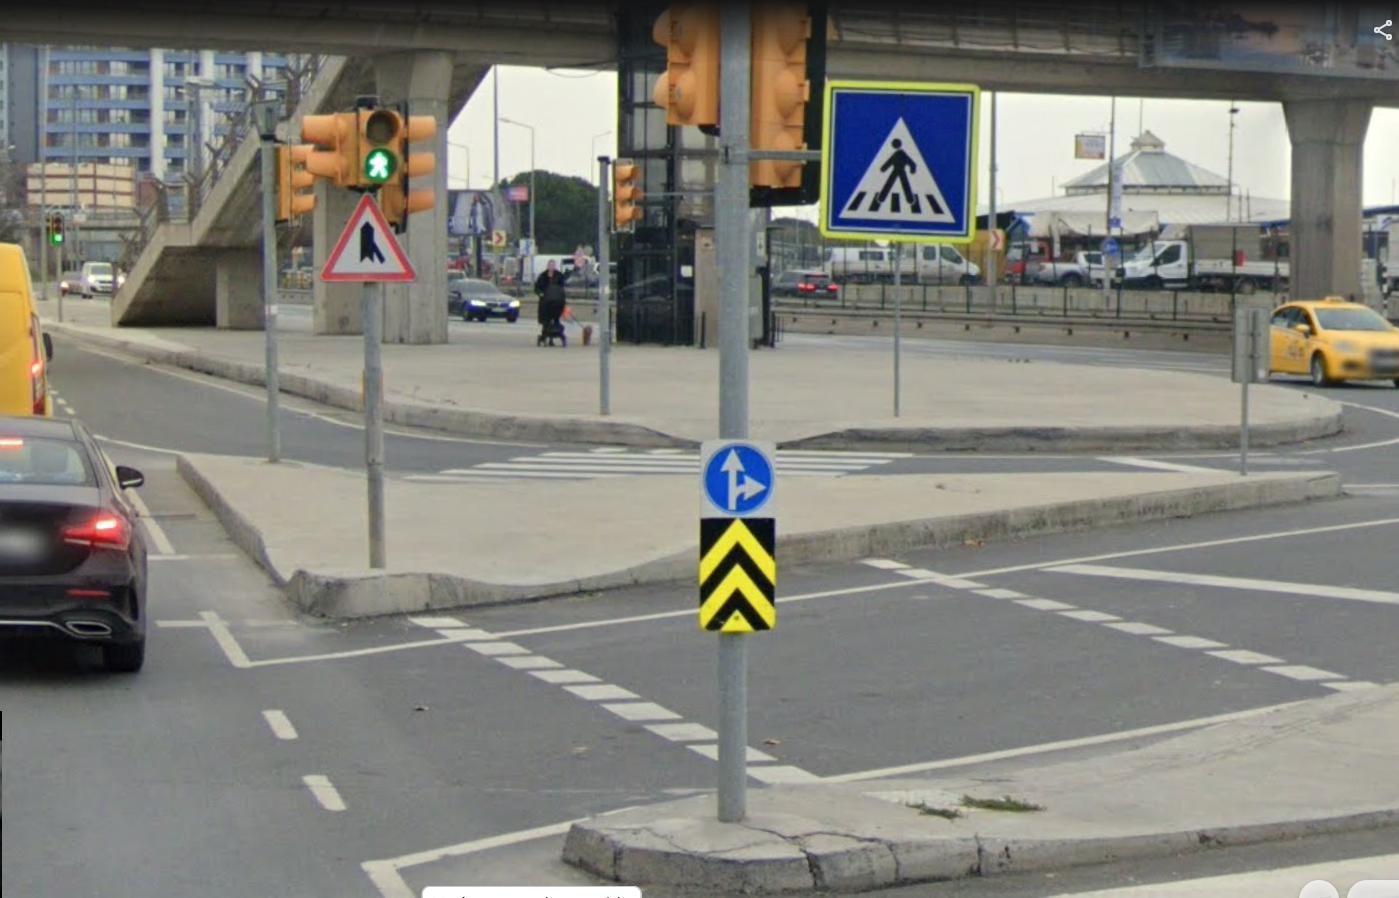greenlight: (53, 211, 66, 247)
